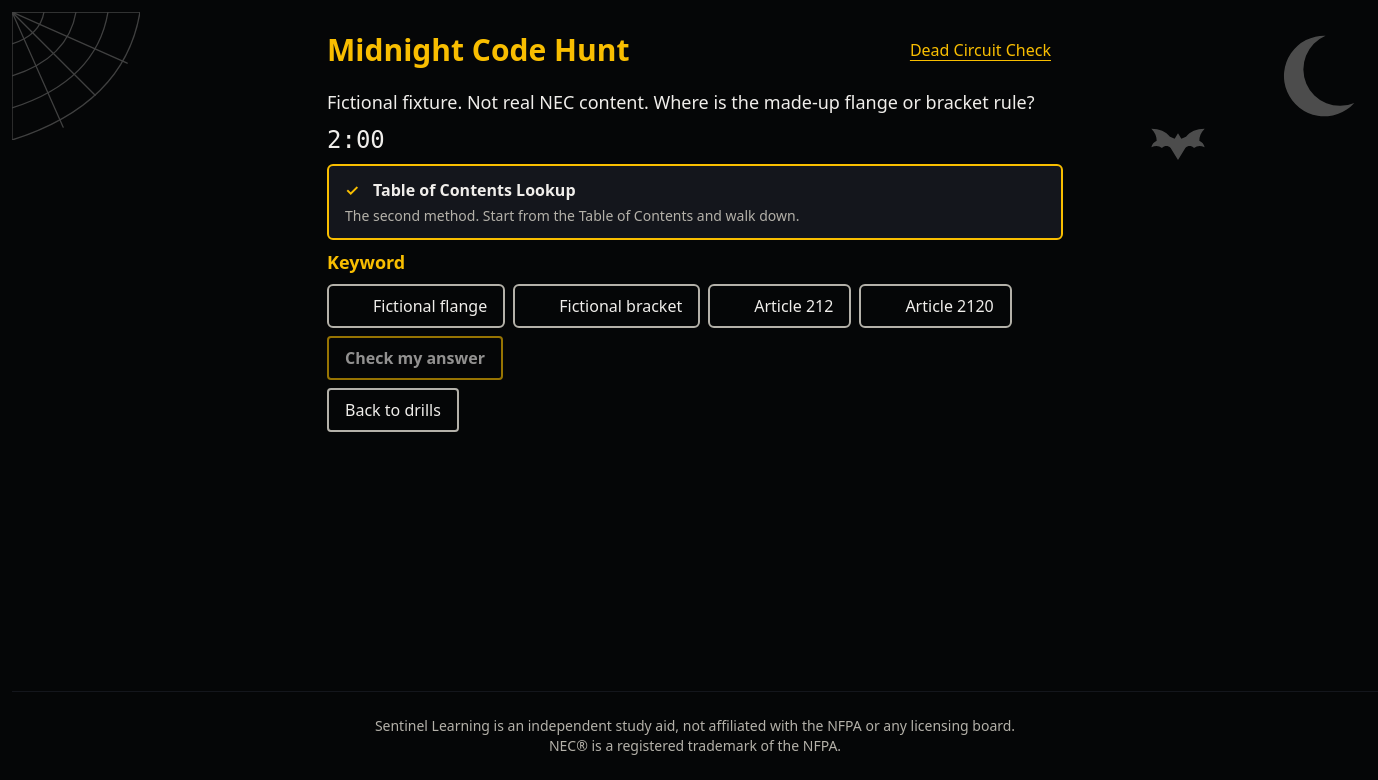
Test case: DrillScreen with two valid trails of one method › is incorrect for keyword B with the steps of A
Click the button "Fictional bracket": coordinates (607, 306) [513,284,700,328]
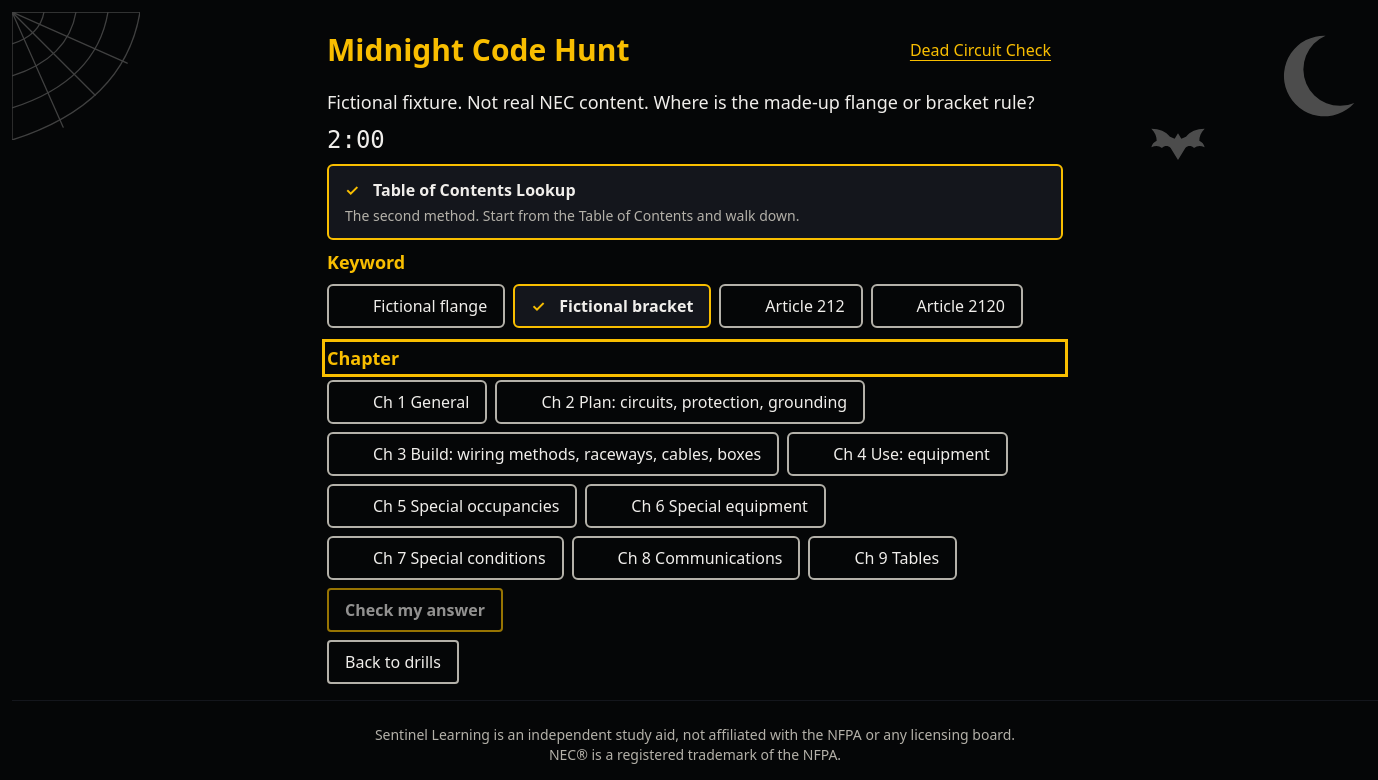
Click the button "Ch 2 Plan: circuits, protection, grounding": coordinates (680, 402) [496,380,865,424]
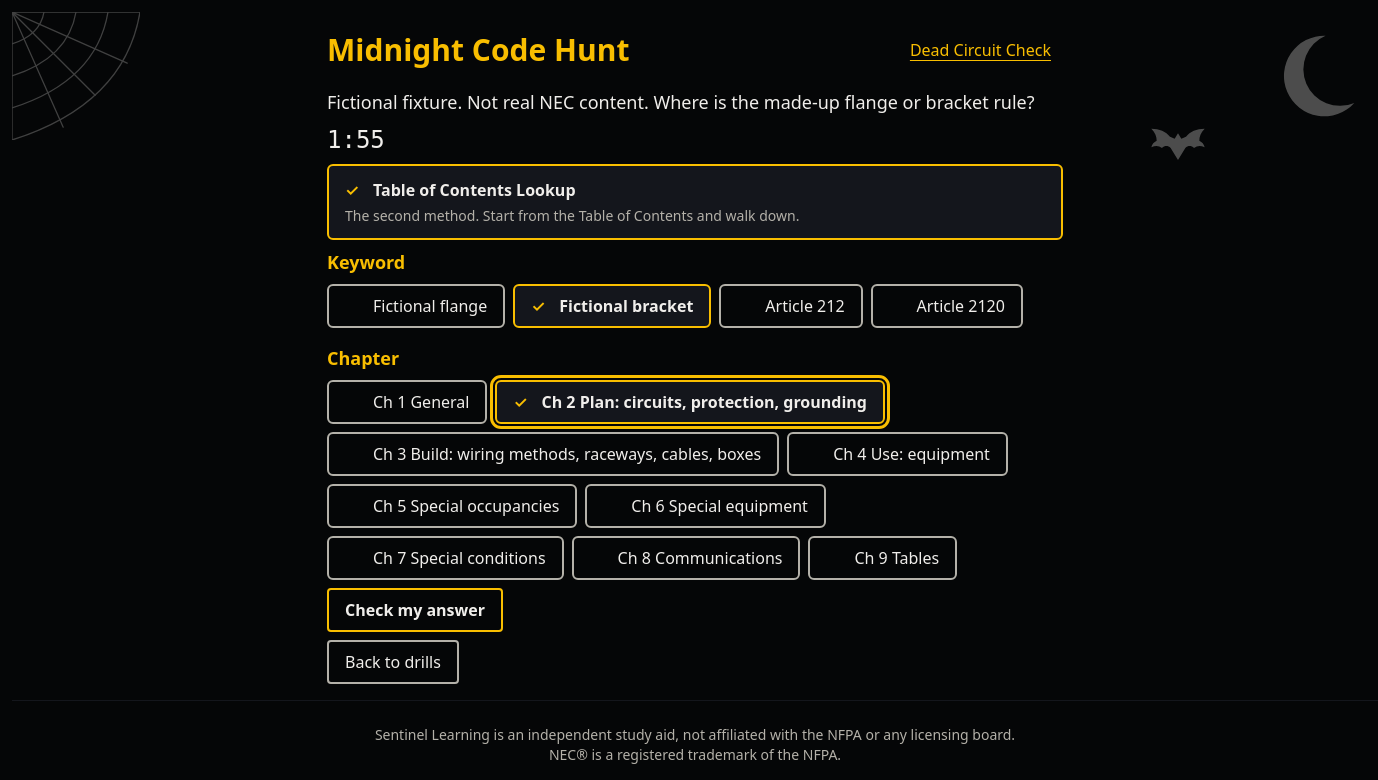
Click the button "Check my answer": coordinates (415, 610) [327,588,503,632]
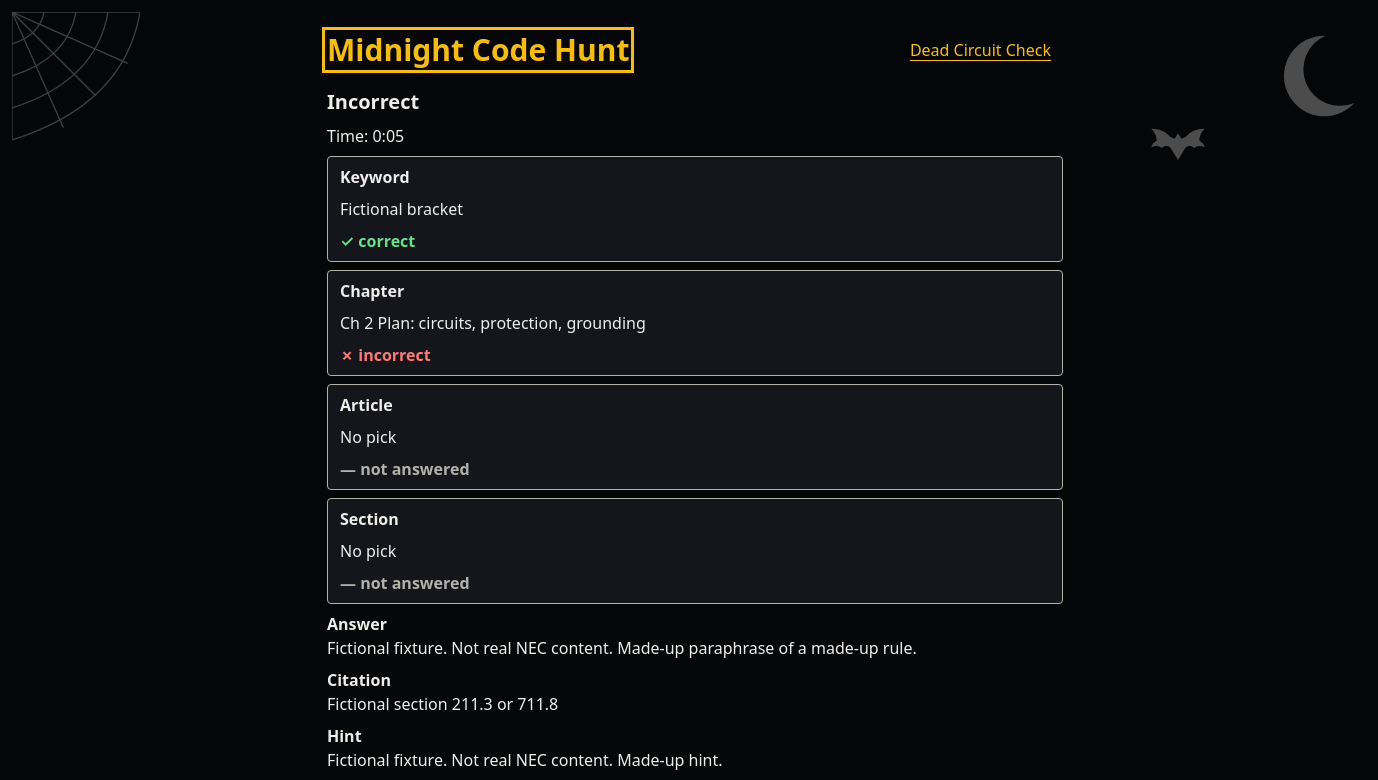
Now the text "Incorrect" is shown, box [327,88,419,115]
Now the text "correct" is shown, box [358,230,415,252]
